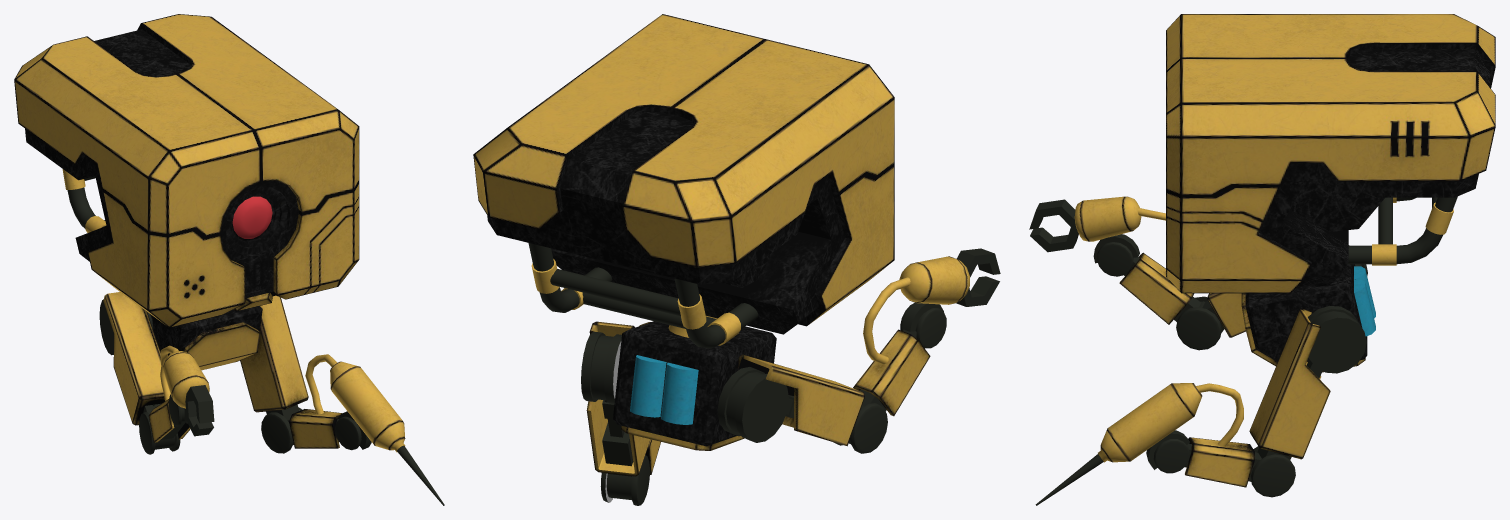
3 renders of one model, left to right at view 1: azimuth 30°, elevation 25°; view 2: azimuth 150°, elevation 25°; view 3: azimuth 270°, elevation 25°, orthographic. The views are drawn at different scales.
Visible parts, largest first — view 1: robot; view 2: robot; view 3: robot.
Part boxes in pixels (left/top/right/bottom): robot: left=14, top=14, right=444, bottom=505; robot: left=473, top=14, right=1000, bottom=505; robot: left=1029, top=14, right=1495, bottom=505.
Bounding box in the file's own units: 1.31 × 1.87 × 2.
1 material, 1 textured.
